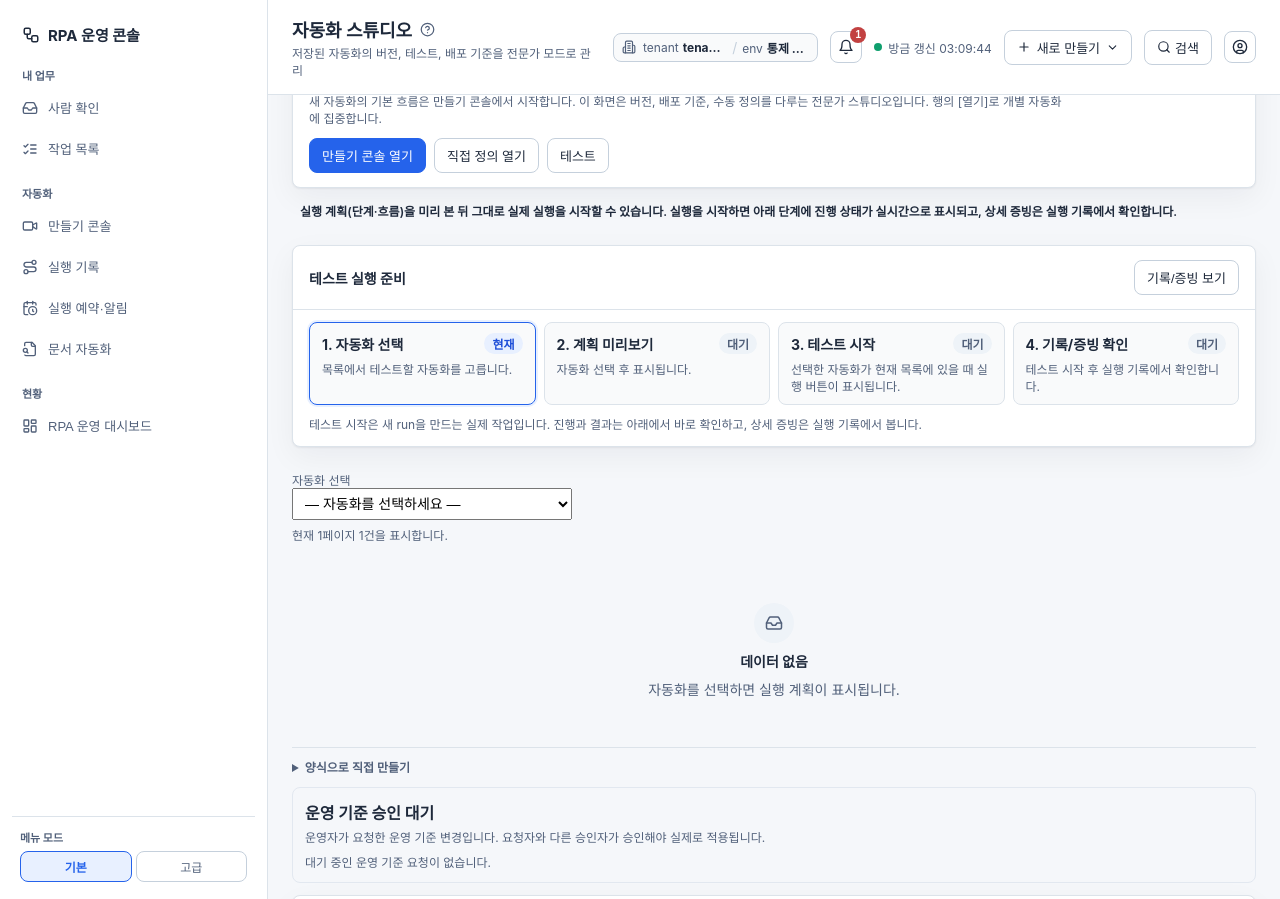
Test: 테스트 실행(Playground) — 계획 미리보기 + 실제 실행 시작 › 실행 계획은 raw 입력 키 대신 업무 라벨을 표시한다
The width and height of the screenshot is (1280, 899).
(page scrolled)
Select "리뷰 수집 (변경 2)" in the dropdown at (432, 504), box [292,488,572,520]
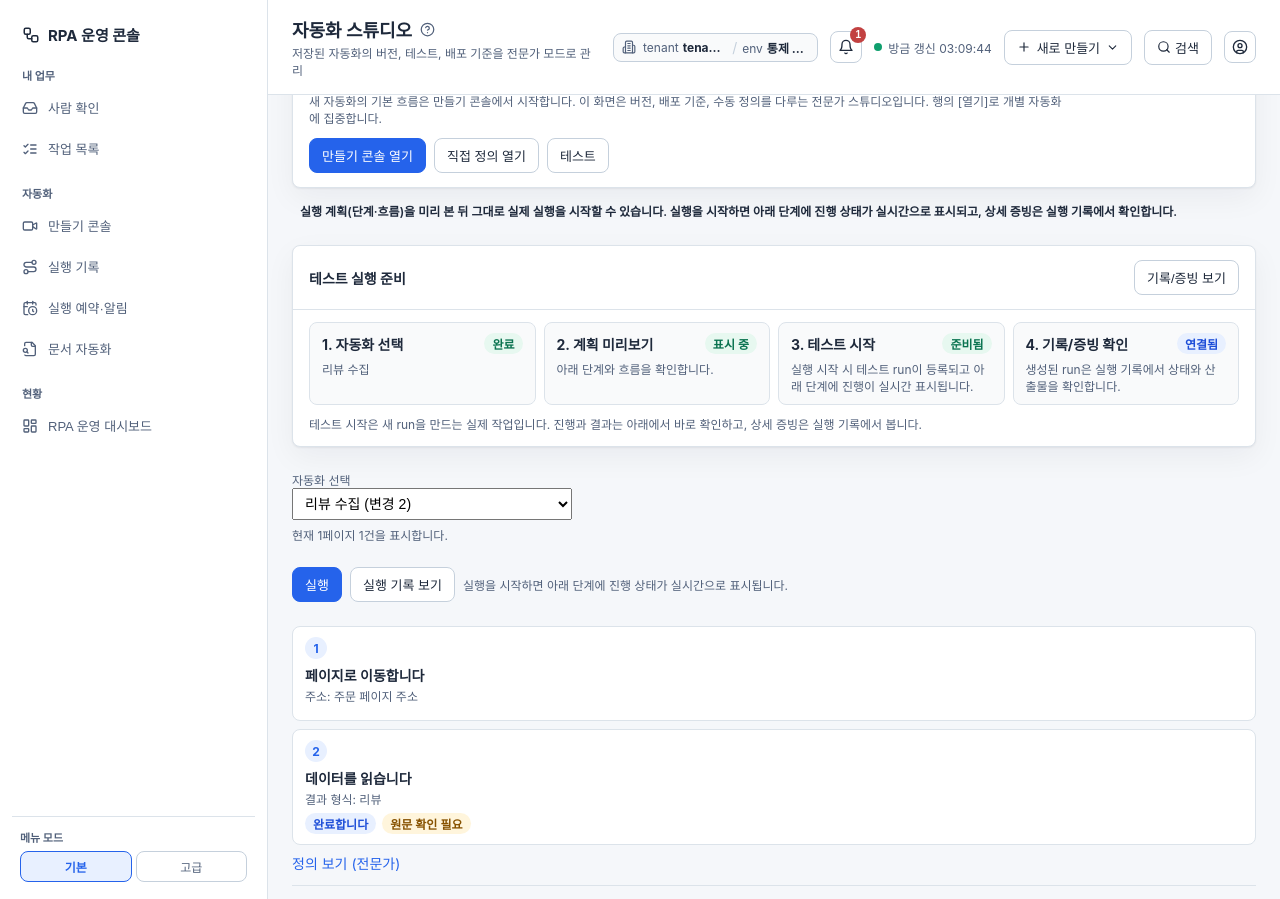
Now the text "주소: 주문 페이지 주소" is shown, box [305,687,424,704]
Now the text "결과 형식: 리뷰" is shown, box [305,792,382,807]
